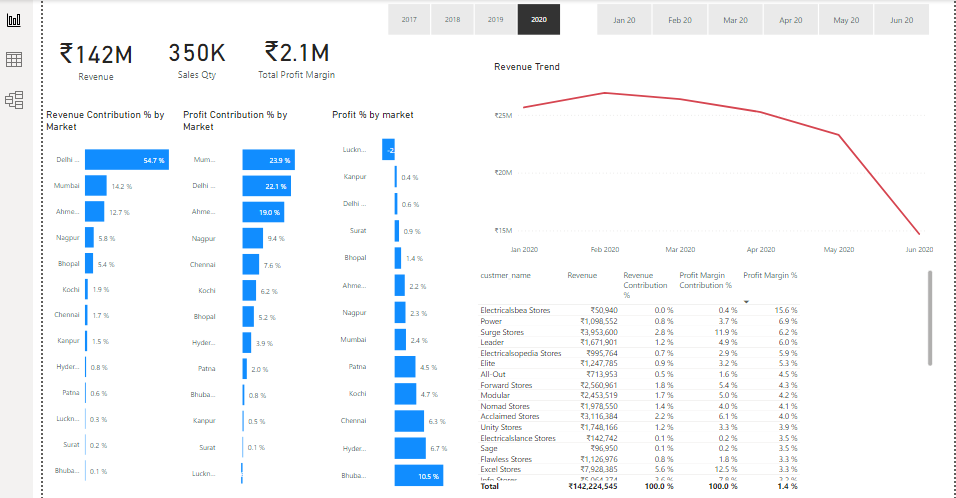

Layout of this report page (visuals, bound fields, positions):
{"tool":"powerbi","page":{"name":"Profit Analysis","canvas":[1550,850],"ordinal":1},"visuals":[{"type":"card","fields":{"Values":["BaseMeasures (2).Revenue"]},"box":[0,11.9,180.2,173.4],"z":0},{"type":"card","fields":{"Values":["BaseMeasures (2).Sales Qty"]},"box":[180.2,11.9,163.2,164.9],"z":1000},{"type":"barChart","title":"Profit % by market","fields":{"Y":["BaseMeasures (2).Profit Margin %"],"Category":["sales markets.markets_name"]},"box":[486.2,185.3,234.6,664.7],"z":2000},{"type":"barChart","title":"Profit Contribution % by Market","fields":{"Y":["BaseMeasures (2).Profit Margin Contribution %"],"Category":["sales markets.markets_name"]},"box":[232.9,185.3,222.7,659.6],"z":3000},{"type":"slicer","fields":{"Values":["sales date.year"]},"box":[561,0,341.7,66.3],"z":4000},{"type":"slicer","fields":{"Values":["sales date.cy_date"]},"box":[916.3,0,613.7,66.3],"z":5000},{"type":"tableEx","title":"Top 5 Customers","fields":{"Values":["sales customers.custmer_name","BaseMeasures (2).Revenue","BaseMeasures (2).Revenue Contribution %","BaseMeasures (2).Profit Margin Contribution %","BaseMeasures (2).Profit Margin %"]},"box":[732.7,453.9,785.4,385.9],"z":6000},{"type":"lineChart","title":"Revenue Trend","fields":{"Y":["BaseMeasures (2).Revenue"],"Category":["sales date.cy_date"]},"box":[761.6,103.7,756.5,338.3],"z":7000},{"type":"card","fields":{"Values":["BaseMeasures (2).Total Profit Margin"]},"box":[350.2,11.9,161.5,164.9],"z":8000},{"type":"barChart","title":"Revenue Contribution % by Market","fields":{"Y":["BaseMeasures (2).Revenue Contribution %"],"Category":["sales markets.markets_name"]},"box":[0,185.3,232.9,654.5],"z":9000}]}

Visuals, with their boxes on the page's 1550x850 design canvas (x1, y1, x2, y2). These are canvas units, not pixel positions in the 956x498 screenshot, which may show the page scaled, cropped or inside an application window:
card - BaseMeasures (2).Revenue: rect(0, 12, 180, 185)
card - BaseMeasures (2).Sales Qty: rect(180, 12, 343, 177)
"Profit % by market" barChart: rect(486, 185, 721, 850)
"Profit Contribution % by Market" barChart: rect(233, 185, 456, 845)
slicer - sales date.year: rect(561, 0, 903, 66)
slicer - sales date.cy_date: rect(916, 0, 1530, 66)
"Top 5 Customers" tableEx: rect(733, 454, 1518, 840)
"Revenue Trend" lineChart: rect(762, 104, 1518, 442)
card - BaseMeasures (2).Total Profit Margin: rect(350, 12, 512, 177)
"Revenue Contribution % by Market" barChart: rect(0, 185, 233, 840)
